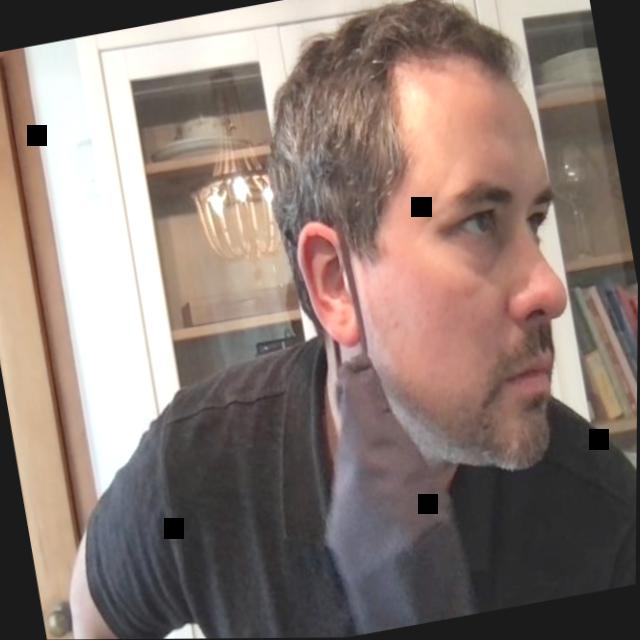NO-Mask: (227, 0, 605, 519)
